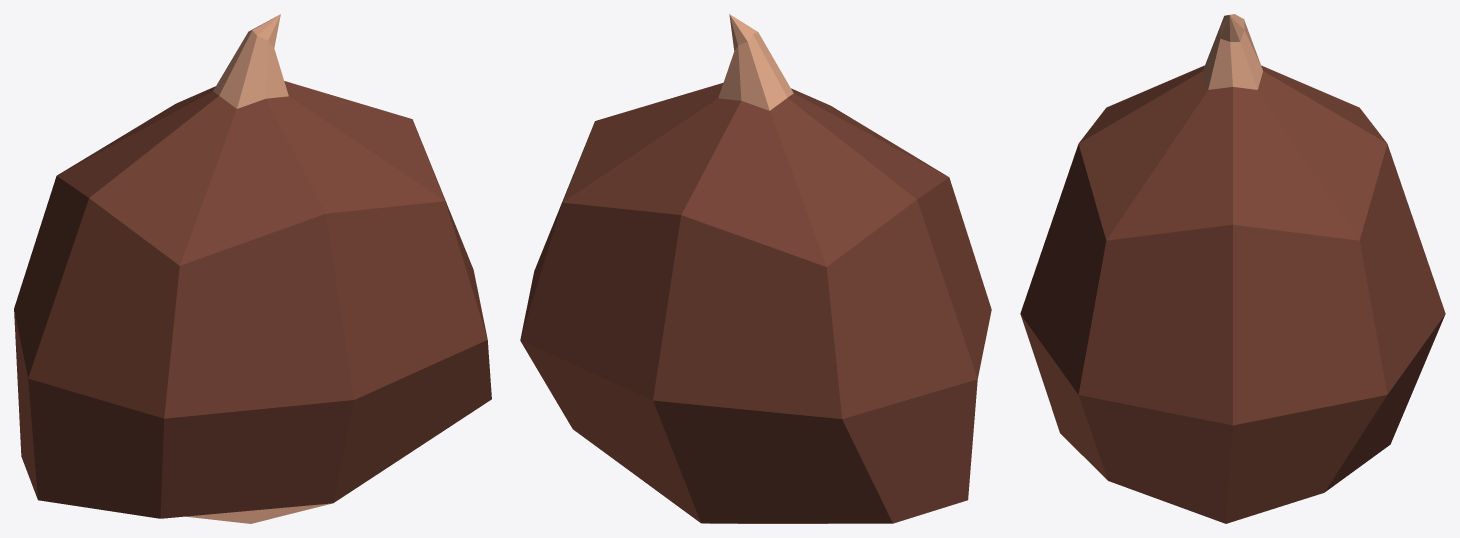
The model's file is chataigne.fbx.
3 renders of one model, left to right at view 1: azimuth 30°, elevation 25°; view 2: azimuth 150°, elevation 25°; view 3: azimuth 270°, elevation 25°, orthographic. The views are drawn at different scales.
Parts seen in each view (by area): view 1: chataigne; view 2: chataigne; view 3: chataigne.
Part boxes in pixels (box(x1,y1,x2,y2)): chataigne: box(14, 14, 491, 523); chataigne: box(520, 14, 991, 523); chataigne: box(1020, 14, 1445, 523).
Bounding box in the file's own units: 46.84 × 50.65 × 37.67.
